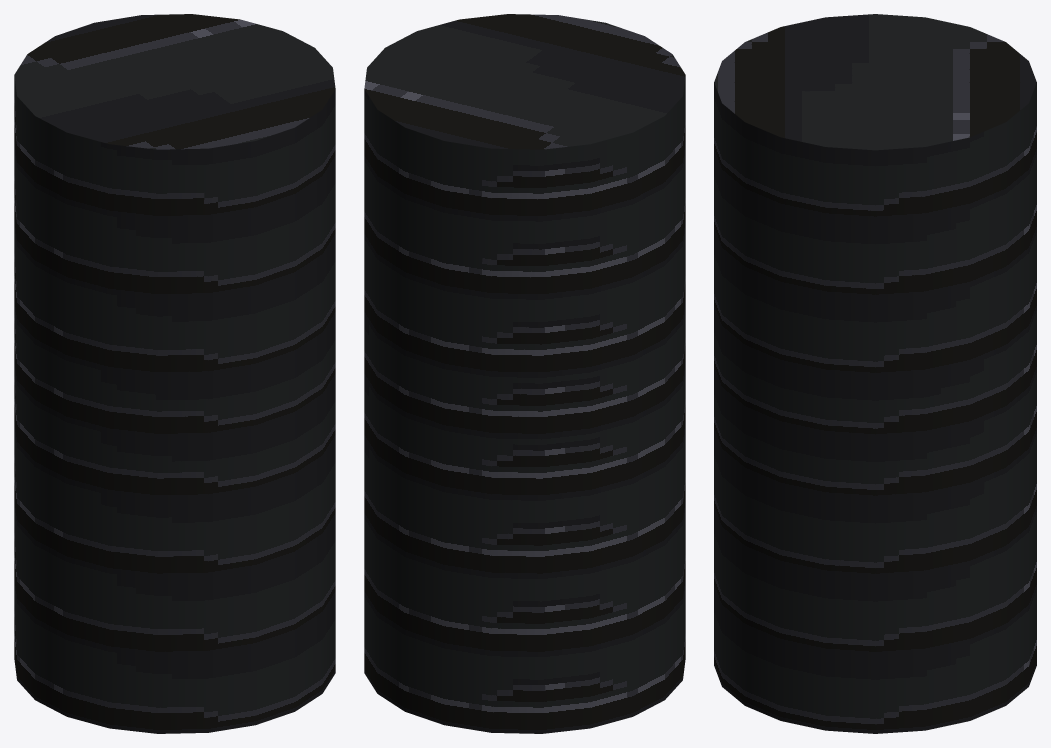
Rendered from testTube.fbx.
3 views of the same model, side by side, from view 1: azimuth 30°, elevation 25°; view 2: azimuth 150°, elevation 25°; view 3: azimuth 270°, elevation 25° (orthographic).
Visible parts, largest first — view 1: TestCylinder; view 2: TestCylinder; view 3: TestCylinder.
Part boxes in pixels (box(x1,y1,x2,y2)): TestCylinder: box(14, 14, 335, 733); TestCylinder: box(364, 14, 685, 733); TestCylinder: box(714, 14, 1036, 733).
Bounding box in the file's own units: 1523 × 3038 × 1523.
